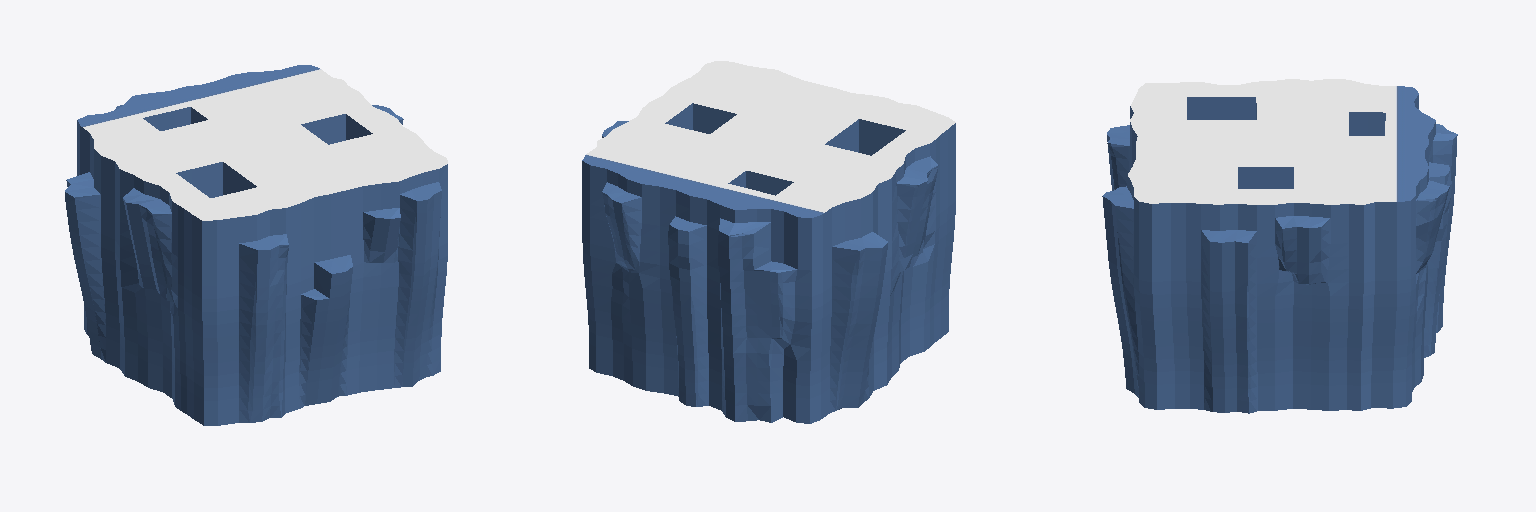
3 views of the same model, side by side, from view 1: azimuth 30°, elevation 25°; view 2: azimuth 150°, elevation 25°; view 3: azimuth 270°, elevation 25° (orthographic).
Visible parts, largest first — view 1: pCube4; view 2: pCube4; view 3: pCube4.
Boxes of the visible parts, x1,y1,x2,y2 form: pCube4: [65, 65, 447, 425]; pCube4: [582, 61, 955, 423]; pCube4: [1102, 79, 1457, 413].
Size of the model in its own units: 28.71 by 20.43 by 28.85.
Materials: 1 (1 with a texture image).